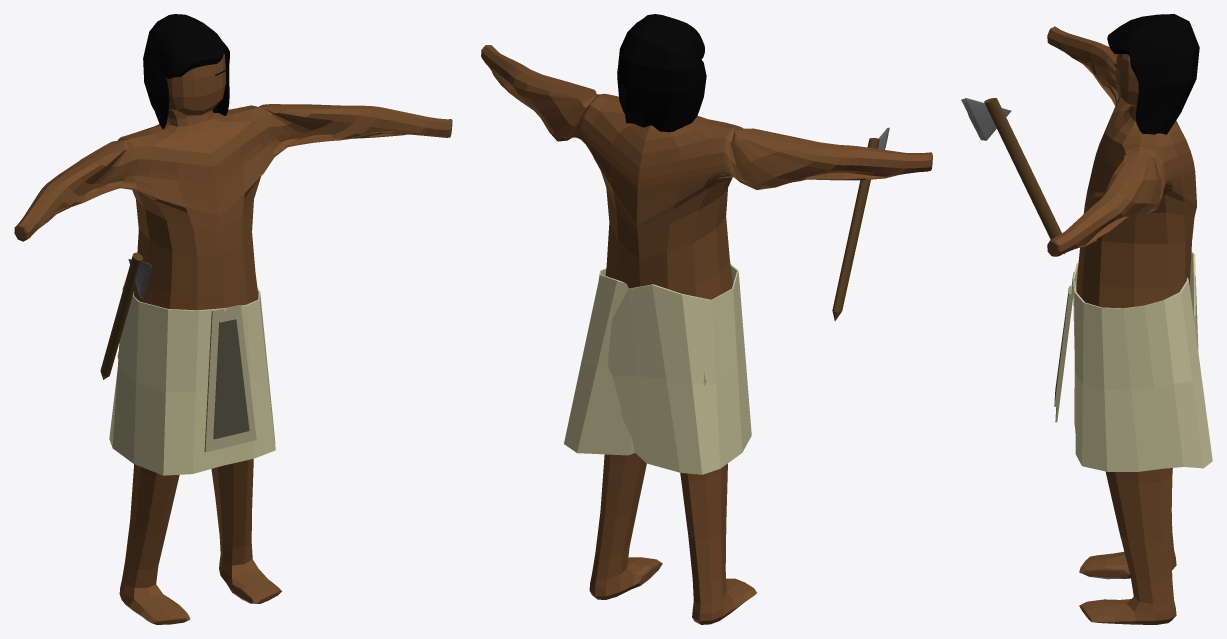
Rendered from postava_sekera.fbx.
3 renders of one model, left to right at view 1: azimuth 30°, elevation 25°; view 2: azimuth 150°, elevation 25°; view 3: azimuth 270°, elevation 25°, orthographic. The views are drawn at different scales.
Parts seen in each view (by area): view 1: Cube, Plane, Plane.001, Plane.002, Cone; view 2: Cube, Plane, Plane.002, Cone; view 3: Cube, Plane, Plane.002, Cone, Plane.001.
Boxes of the visible parts, box(x1,y1,x2,y2) form: Cube: box(14, 54, 452, 624); Plane: box(109, 277, 275, 475); Plane.001: box(204, 305, 256, 452); Plane.002: box(143, 14, 229, 129); Cone: box(100, 252, 152, 379); Cube: box(481, 45, 932, 624); Plane: box(564, 264, 751, 474); Plane.002: box(617, 14, 706, 132); Cone: box(832, 127, 889, 320); Cube: box(1047, 26, 1196, 624); Plane: box(1073, 252, 1212, 471); Plane.002: box(1107, 14, 1199, 134); Cone: box(961, 98, 1064, 253); Plane.001: box(1054, 272, 1074, 422).
Size of the model in its own units: 274 by 343 by 135.
